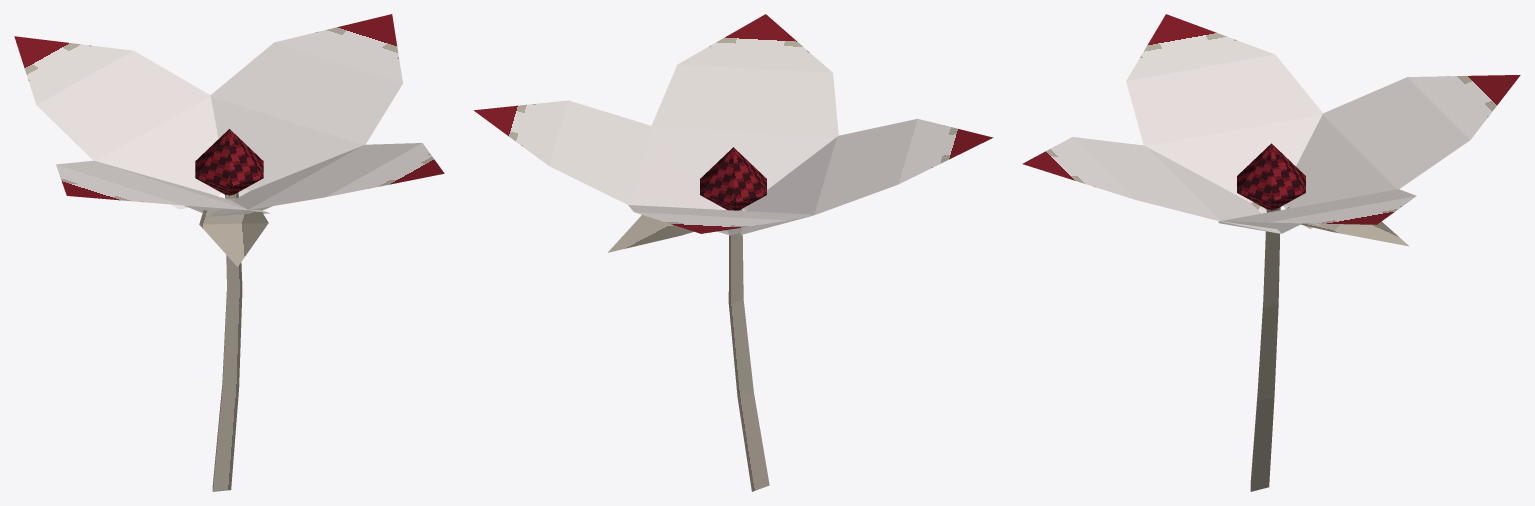
The model's file is FLO-05_Flor_de_jaculatoria.gltf.
3 views of the same model, side by side, from view 1: azimuth 30°, elevation 25°; view 2: azimuth 150°, elevation 25°; view 3: azimuth 270°, elevation 25° (orthographic). The views are drawn at different scales.
Visible parts, largest first — view 1: FLO-05_Flor_de_jaculatoria; view 2: FLO-05_Flor_de_jaculatoria; view 3: FLO-05_Flor_de_jaculatoria.
Part boxes in pixels (x1,y1,x2,y2): FLO-05_Flor_de_jaculatoria: (14,14,444,491); FLO-05_Flor_de_jaculatoria: (474,14,993,491); FLO-05_Flor_de_jaculatoria: (1022,14,1520,491).
Bounding box in the file's own units: 0.2633 × 0.2194 × 0.2633.
Materials: 1 (1 with a texture image).
